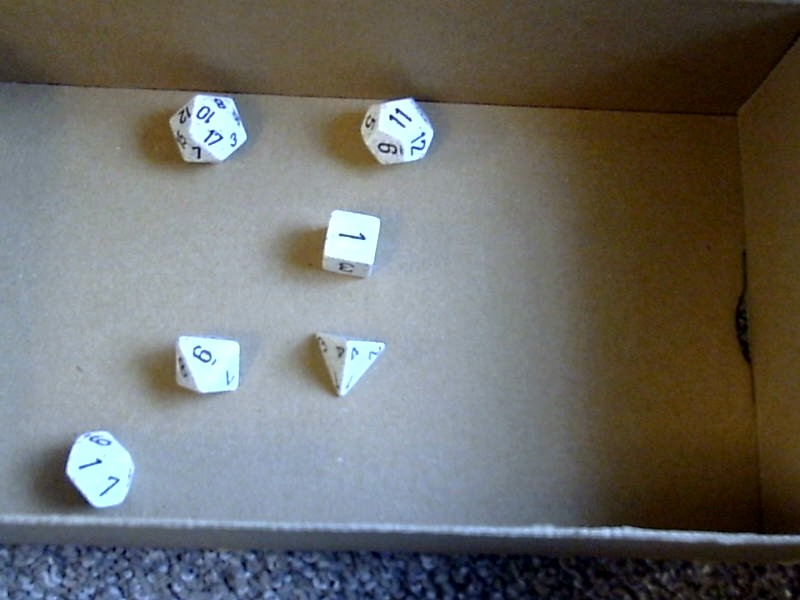d10 1: (57, 426, 142, 513)
d12 11: (353, 88, 440, 173)
d20 10: (159, 82, 254, 179)
d4 4: (310, 328, 392, 407)
d6 1: (316, 201, 383, 291)
d8 6: (159, 322, 246, 400)
